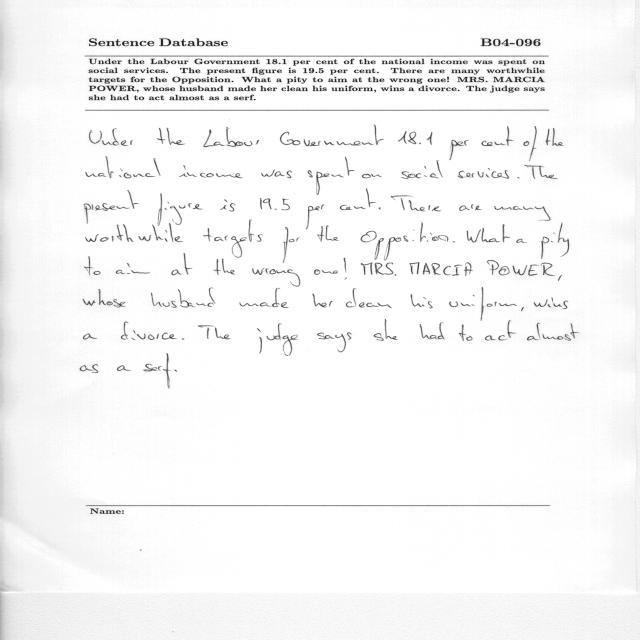word: (361, 221, 449, 260), (449, 287, 517, 321), (203, 220, 263, 258), (280, 125, 384, 146), (85, 220, 183, 242), (121, 321, 177, 356), (84, 190, 139, 224), (308, 156, 355, 195), (86, 157, 160, 179), (158, 193, 203, 226), (257, 323, 298, 356), (151, 288, 215, 308), (203, 127, 260, 147), (487, 260, 555, 276), (541, 222, 569, 259), (239, 288, 289, 308), (527, 323, 580, 341), (346, 288, 392, 308), (409, 262, 473, 276), (143, 357, 171, 389), (252, 269, 300, 287), (340, 189, 381, 210), (494, 206, 551, 221), (179, 165, 243, 178), (467, 224, 510, 243), (83, 289, 126, 308), (391, 196, 441, 212), (401, 160, 443, 179), (89, 128, 133, 146), (317, 333, 352, 353), (482, 126, 514, 146), (361, 258, 396, 276), (485, 320, 516, 340), (283, 227, 300, 263), (458, 168, 509, 179), (373, 319, 398, 341), (157, 128, 186, 145), (398, 131, 433, 145), (523, 126, 537, 161), (525, 165, 559, 179), (172, 253, 193, 275), (306, 205, 324, 230), (420, 322, 445, 340), (198, 326, 230, 340), (449, 140, 469, 160), (317, 225, 339, 242), (116, 263, 150, 274), (534, 298, 568, 309), (260, 198, 290, 210), (545, 128, 564, 146), (84, 256, 101, 276), (214, 259, 235, 275), (411, 294, 433, 309), (312, 294, 333, 308), (261, 170, 292, 179), (459, 325, 473, 341), (221, 200, 236, 212), (80, 364, 98, 373), (459, 204, 482, 211), (314, 269, 338, 275), (84, 334, 98, 340), (117, 365, 131, 371), (362, 174, 382, 178), (344, 258, 347, 280), (516, 239, 527, 243), (558, 275, 562, 281), (521, 307, 524, 311), (175, 370, 178, 372), (518, 177, 520, 179), (453, 241, 455, 243), (182, 338, 184, 340)
